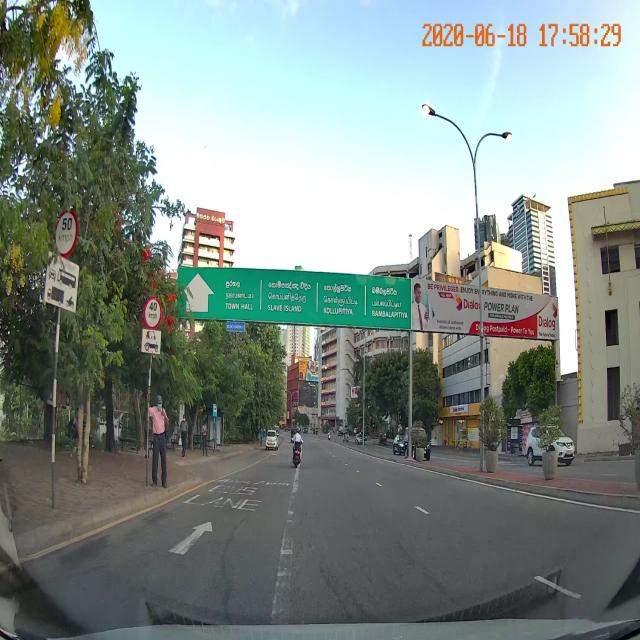BUS LANE: (181, 483, 264, 514)
Strelka vpered: (165, 519, 213, 557)
